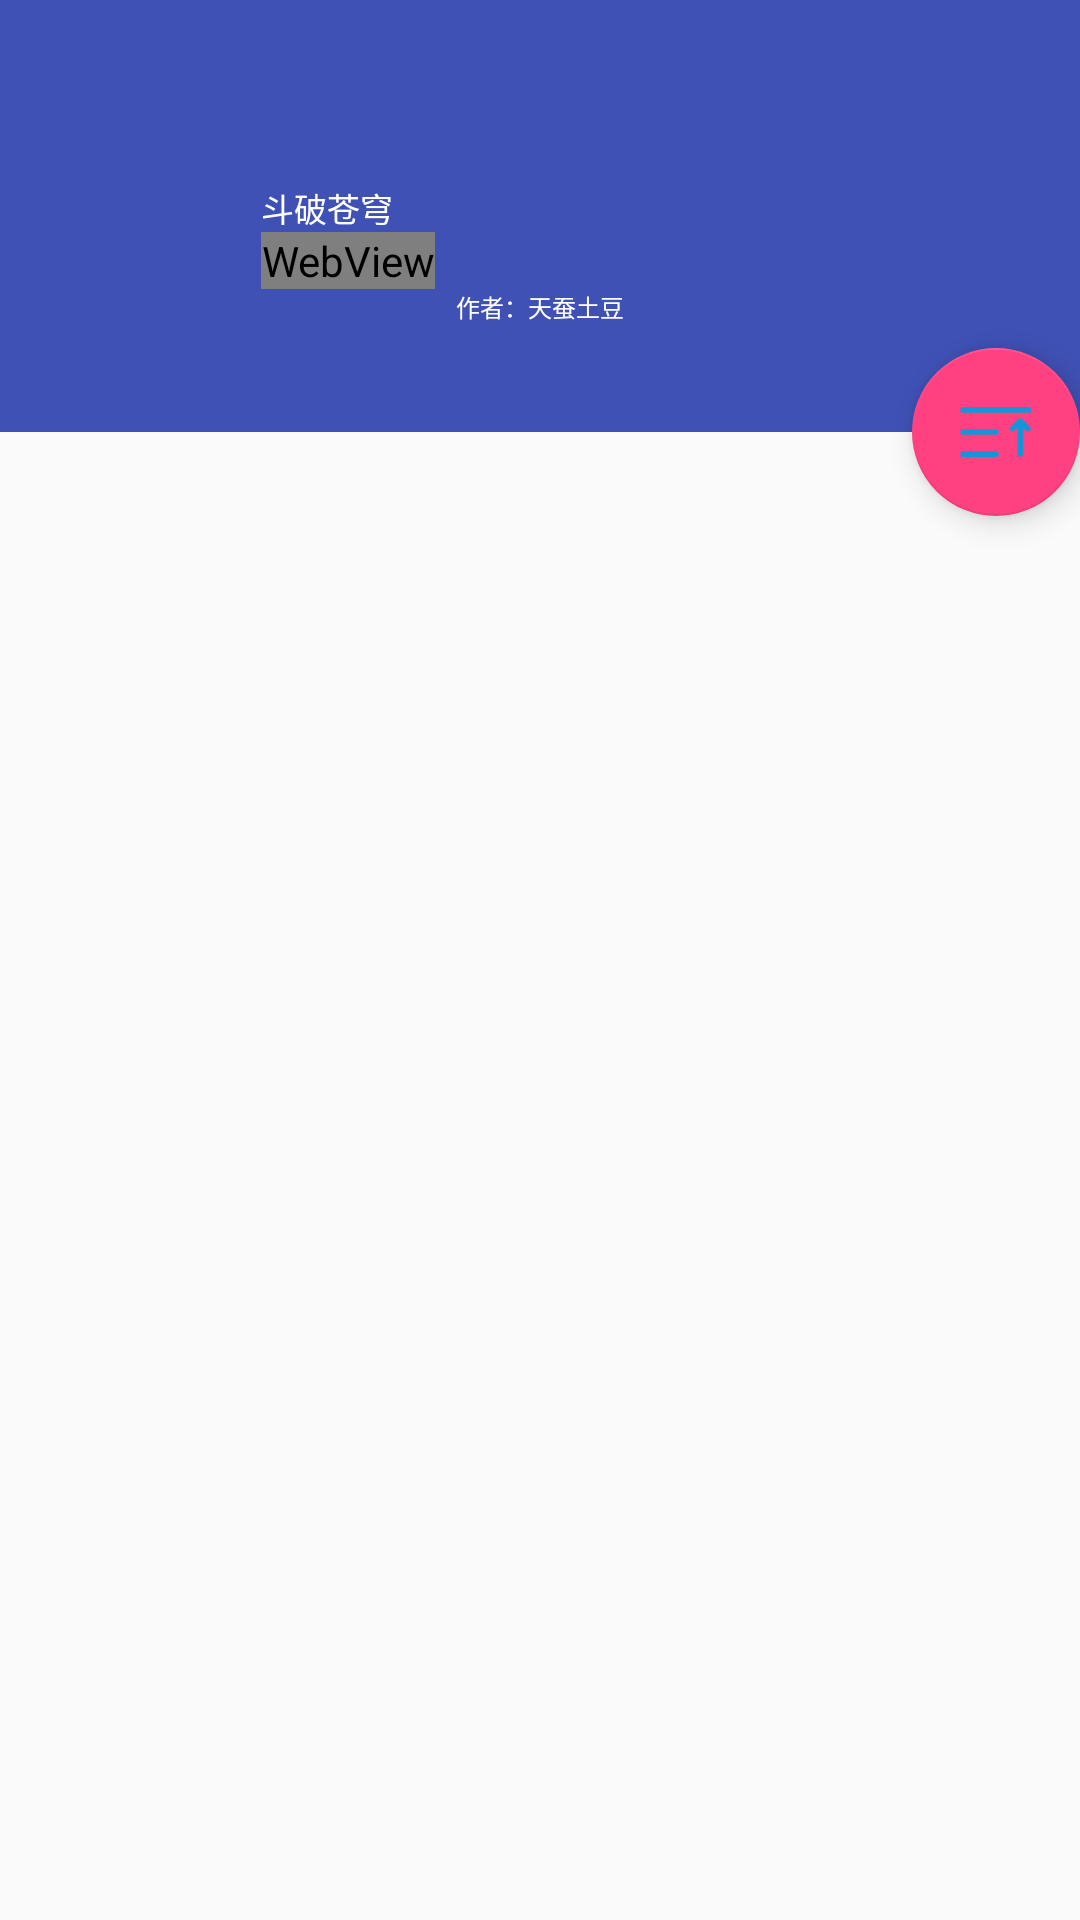

Icons on this 1080 × 1920 Android screen, each with the point to tap as [x,y]:
updown: [996,432]
